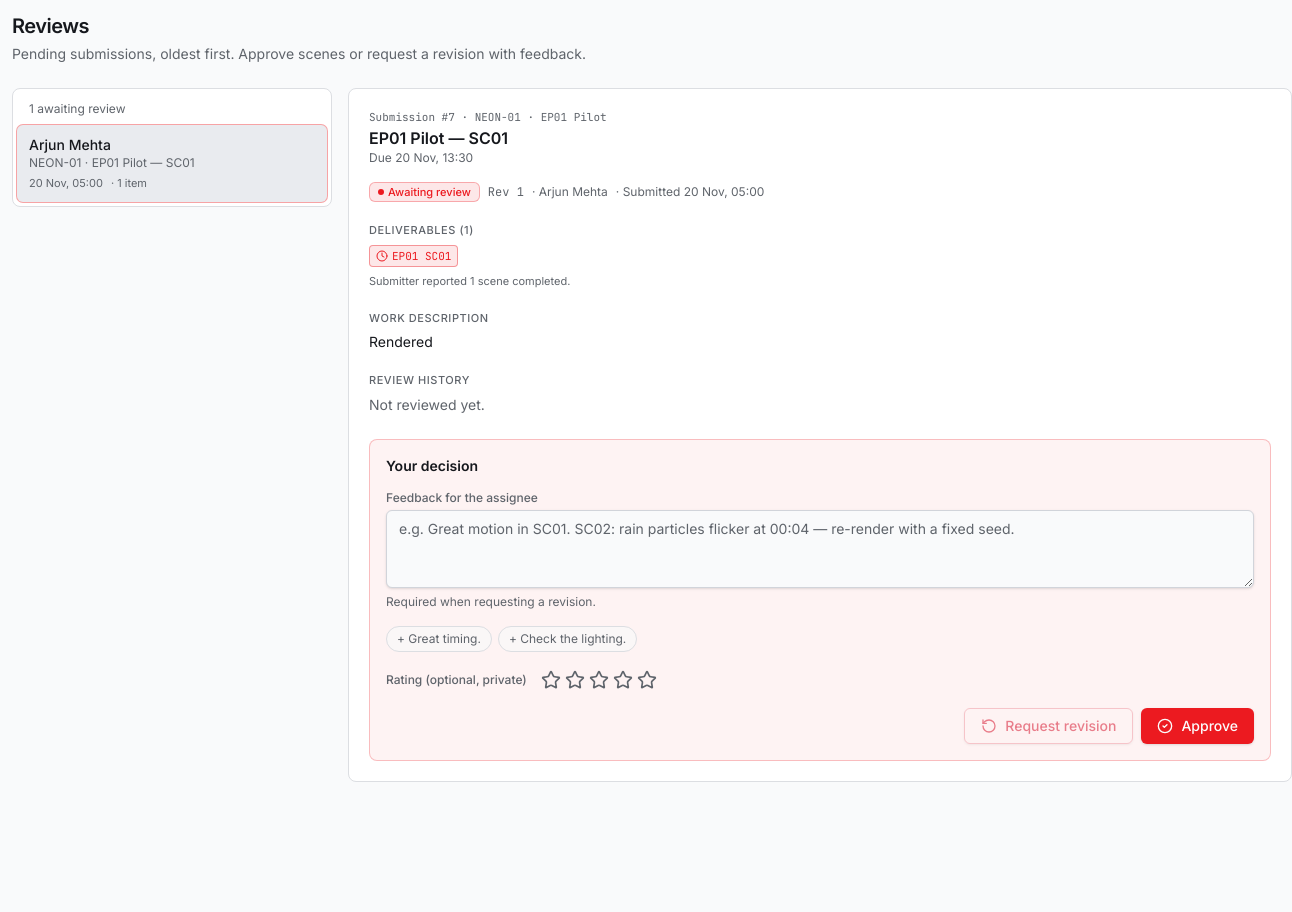
Test case: team-lead tools › review sends the star rating and appends clicked phrases to the feedback
This screenshot has width=1292, height=912.
Later steps or results of the test are not shown.
Step 1. Click the button "+ Great timing." → (439, 639), box x1=386 y1=626 x2=492 y2=652
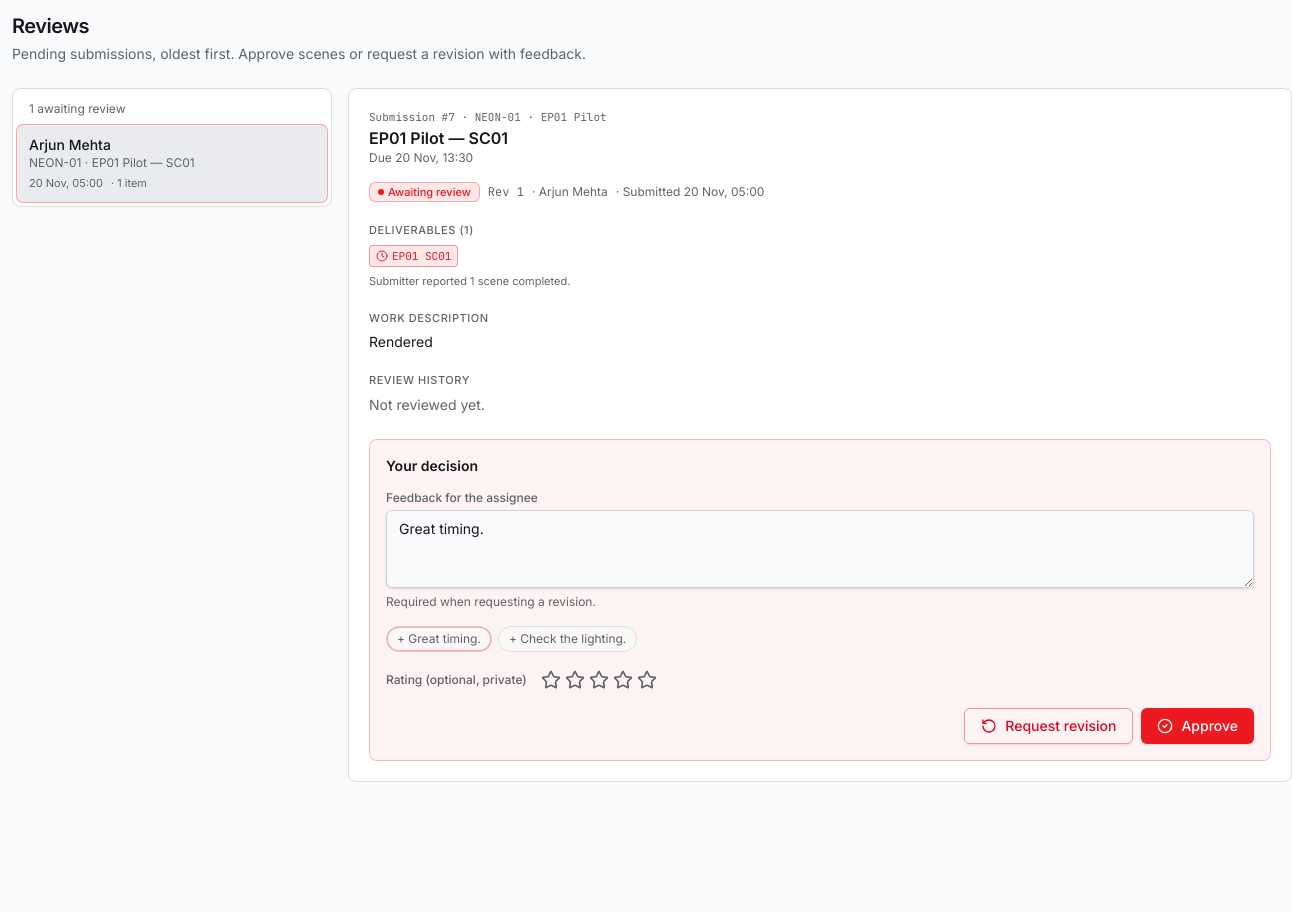
Step 2. Click the button "+ Check the lighting." → (568, 639), box x1=498 y1=626 x2=637 y2=652
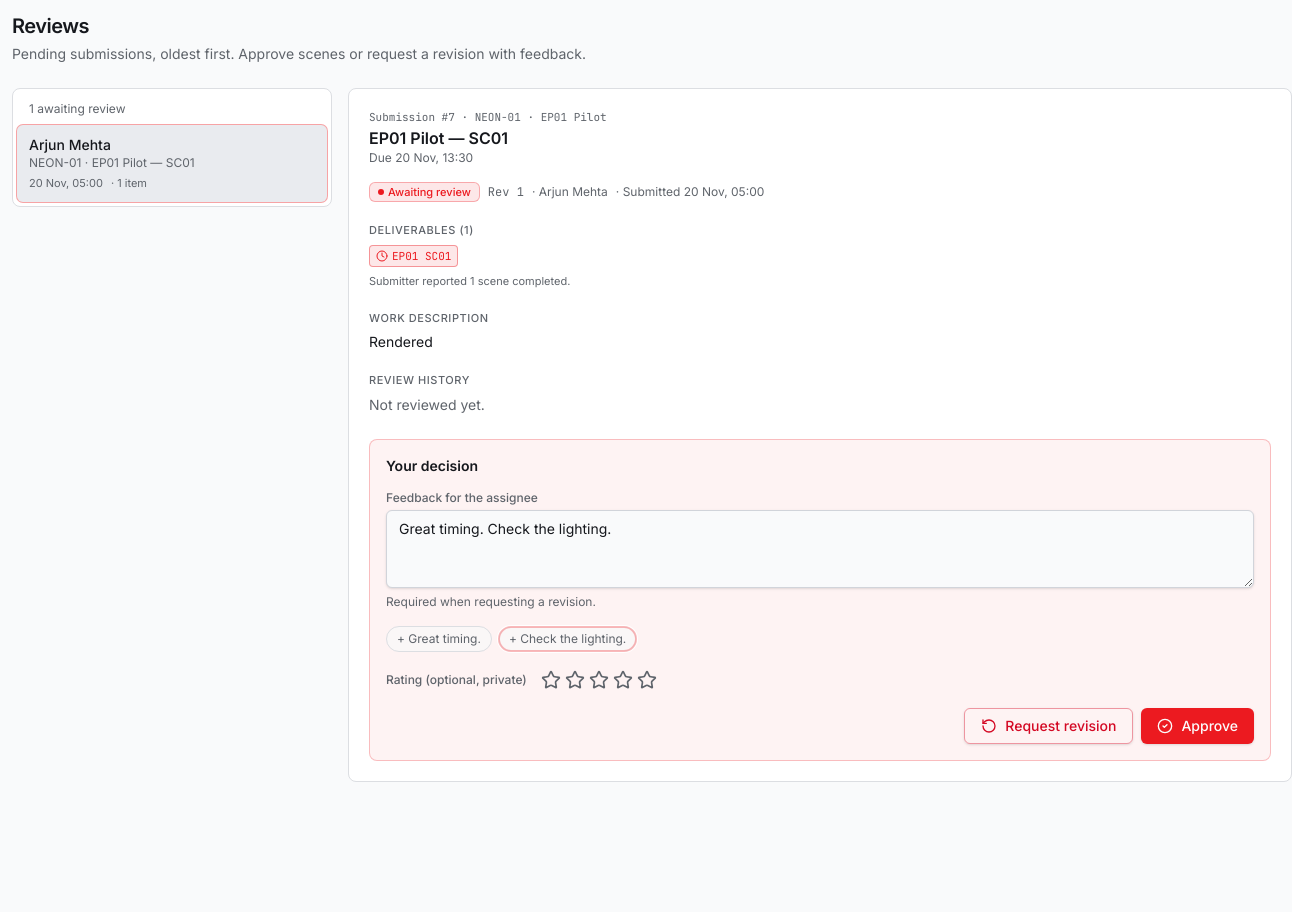
Result: the text box labelled "Feedback for the assignee" holds "Great timing. Check the lighting." at x1=386 y1=510 x2=1254 y2=588
Step 3. Click the radio button named "4 stars" → (623, 680), box x1=611 y1=668 x2=635 y2=692
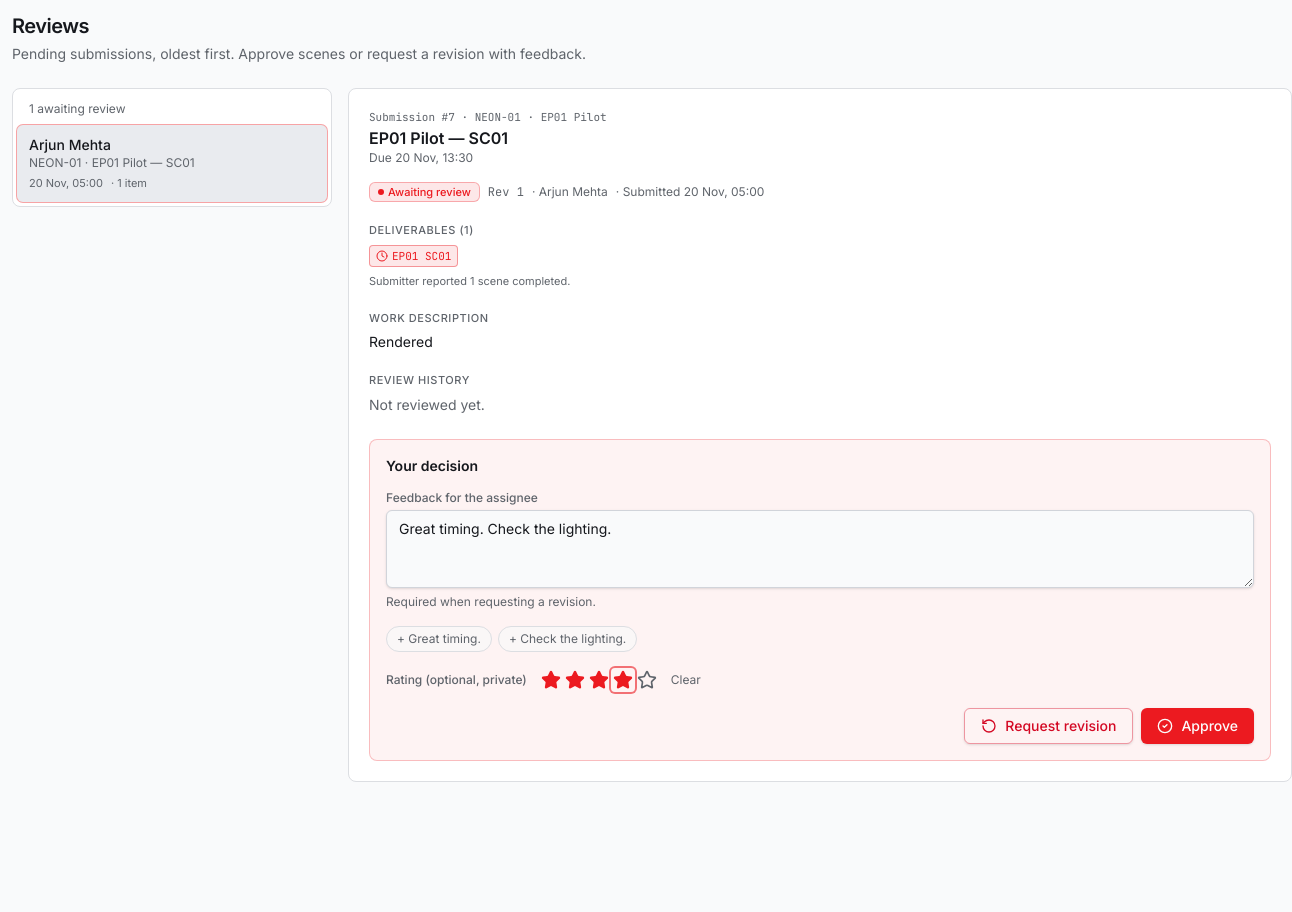
Result: the radio button named "4 stars" is checked at x1=611 y1=668 x2=635 y2=692
